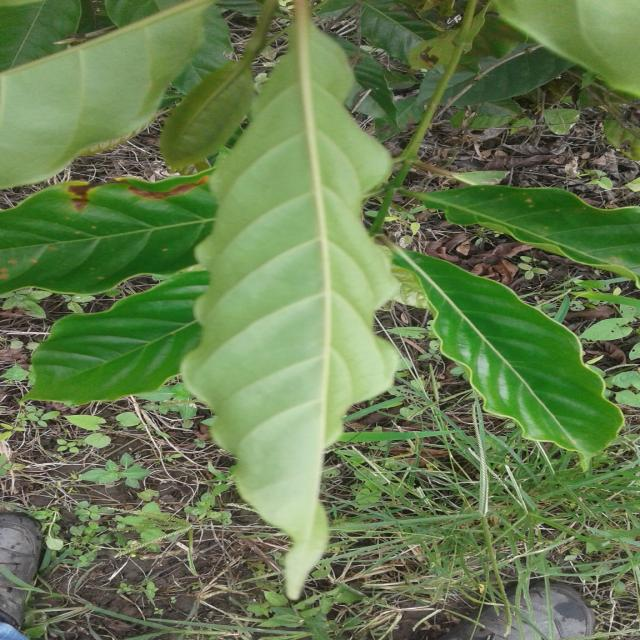Sanas: (179, 36, 403, 603)
